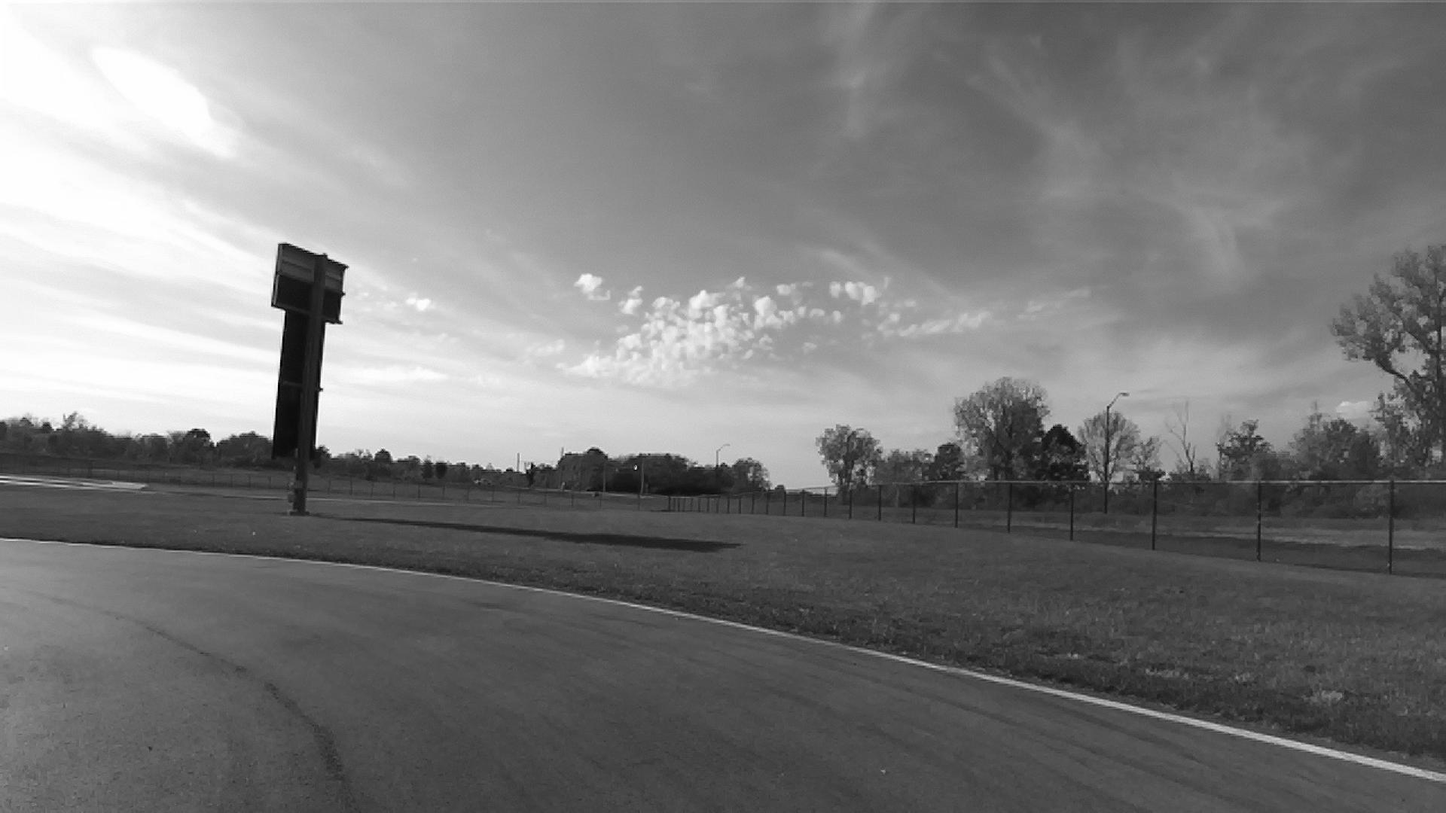white-line: (139, 547, 1445, 785), (0, 537, 146, 550)
